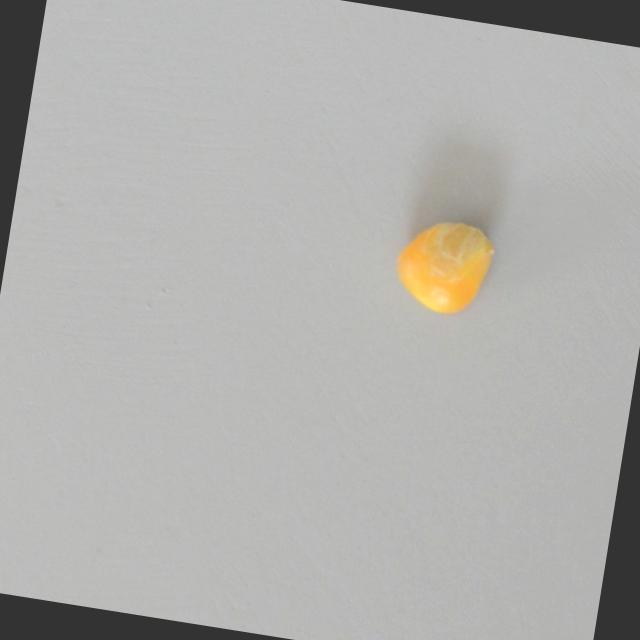dañado: (385, 205, 505, 321)
